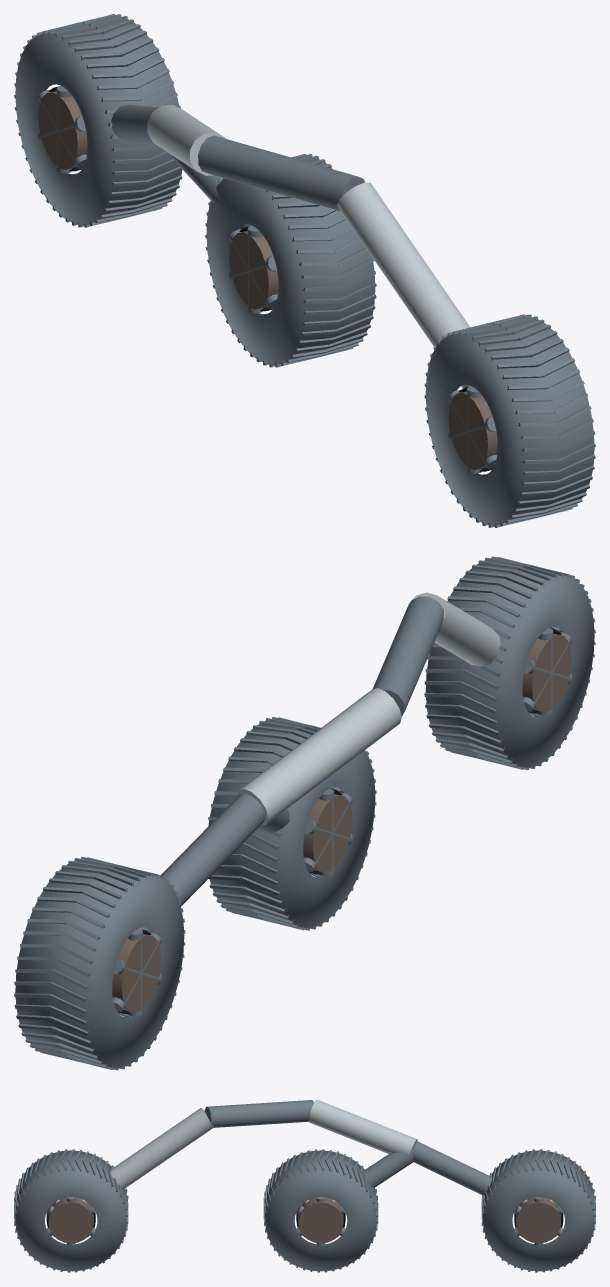
Rendered from perseverance_mobility.rocker_right.glb.
3 renders of one model, top to bottom at view 1: azimuth 30°, elevation 25°; view 2: azimuth 150°, elevation 25°; view 3: azimuth 270°, elevation 25°, orthographic. The views are drawn at different scales.
Parts seen in each view (by area): view 1: perseverance_mobility.rocker_right.steer_front.wheel_front.r (×2), perseverance_mobility.rocker_right.bogie.steer_rear.wheel_re (×2), perseverance_mobility.rocker_right.bogie.axle_middle.wheel_m (×2), perseverance_mobility.rocker_right.mesh_Satin_aluminum, perseverance_mobility.rocker_right.mesh_Machined_steel, perseverance_mobility.rocker_right.bogie.mesh_Machined_steel; view 2: perseverance_mobility.rocker_right.bogie.steer_rear.wheel_re (×2), perseverance_mobility.rocker_right.steer_front.wheel_front.r (×2), perseverance_mobility.rocker_right.bogie.axle_middle.wheel_m (×2), perseverance_mobility.rocker_right.mesh_Satin_aluminum, perseverance_mobility.rocker_right.bogie.mesh_Machined_steel, perseverance_mobility.rocker_right.mesh_Machined_steel; view 3: perseverance_mobility.rocker_right.bogie.axle_middle.wheel_m (×2), perseverance_mobility.rocker_right.bogie.steer_rear.wheel_re (×2), perseverance_mobility.rocker_right.steer_front.wheel_front.r (×2), perseverance_mobility.rocker_right.mesh_Satin_aluminum, perseverance_mobility.rocker_right.bogie.mesh_Machined_steel, perseverance_mobility.rocker_right.mesh_Machined_steel.
Part boxes in pixels (bbox=[...]): perseverance_mobility.rocker_right.steer_front.wheel_front.r (×2): bbox=[424, 314, 595, 527]; perseverance_mobility.rocker_right.bogie.steer_rear.wheel_re (×2): bbox=[14, 14, 182, 227]; perseverance_mobility.rocker_right.bogie.axle_middle.wheel_m (×2): bbox=[205, 154, 376, 367]; perseverance_mobility.rocker_right.mesh_Satin_aluminum: bbox=[147, 105, 470, 388]; perseverance_mobility.rocker_right.mesh_Machined_steel: bbox=[198, 135, 365, 210]; perseverance_mobility.rocker_right.bogie.mesh_Machined_steel: bbox=[111, 104, 251, 229]; perseverance_mobility.rocker_right.bogie.steer_rear.wheel_re (×2): bbox=[14, 857, 185, 1070]; perseverance_mobility.rocker_right.steer_front.wheel_front.r (×2): bbox=[424, 556, 595, 769]; perseverance_mobility.rocker_right.bogie.axle_middle.wheel_m (×2): bbox=[208, 717, 376, 930]; perseverance_mobility.rocker_right.mesh_Satin_aluminum: bbox=[237, 592, 500, 825]; perseverance_mobility.rocker_right.bogie.mesh_Machined_steel: bbox=[139, 793, 289, 932]; perseverance_mobility.rocker_right.mesh_Machined_steel: bbox=[373, 596, 443, 716]; perseverance_mobility.rocker_right.bogie.axle_middle.wheel_m (×2): bbox=[263, 1149, 378, 1272]; perseverance_mobility.rocker_right.bogie.steer_rear.wheel_re (×2): bbox=[481, 1149, 595, 1272]; perseverance_mobility.rocker_right.steer_front.wheel_front.r (×2): bbox=[14, 1149, 128, 1272]; perseverance_mobility.rocker_right.mesh_Satin_aluminum: bbox=[110, 1099, 417, 1188]; perseverance_mobility.rocker_right.bogie.mesh_Machined_steel: bbox=[363, 1141, 492, 1195]; perseverance_mobility.rocker_right.mesh_Machined_steel: bbox=[204, 1100, 314, 1127].
Size of the model in its own units: 0.4601 by 0.7506 by 2.73.
